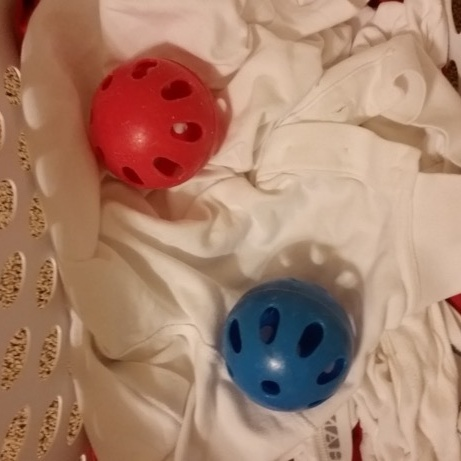ball: (212, 272, 364, 415), (76, 55, 228, 195)
